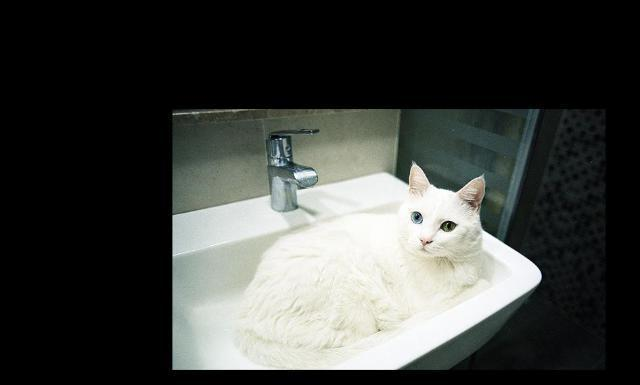Lavamanos: (173, 124, 549, 369)
Otro Obstaculo: (230, 165, 499, 367)
